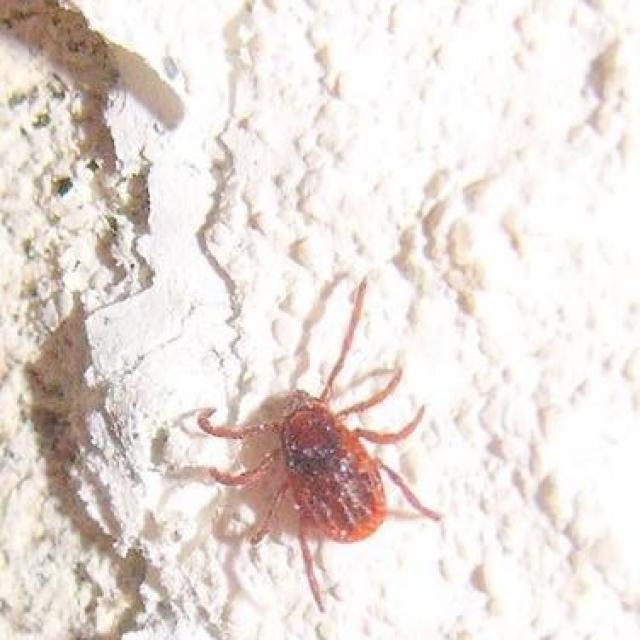Rhipicephalus Sanguineus-F: (184, 276, 439, 614)
